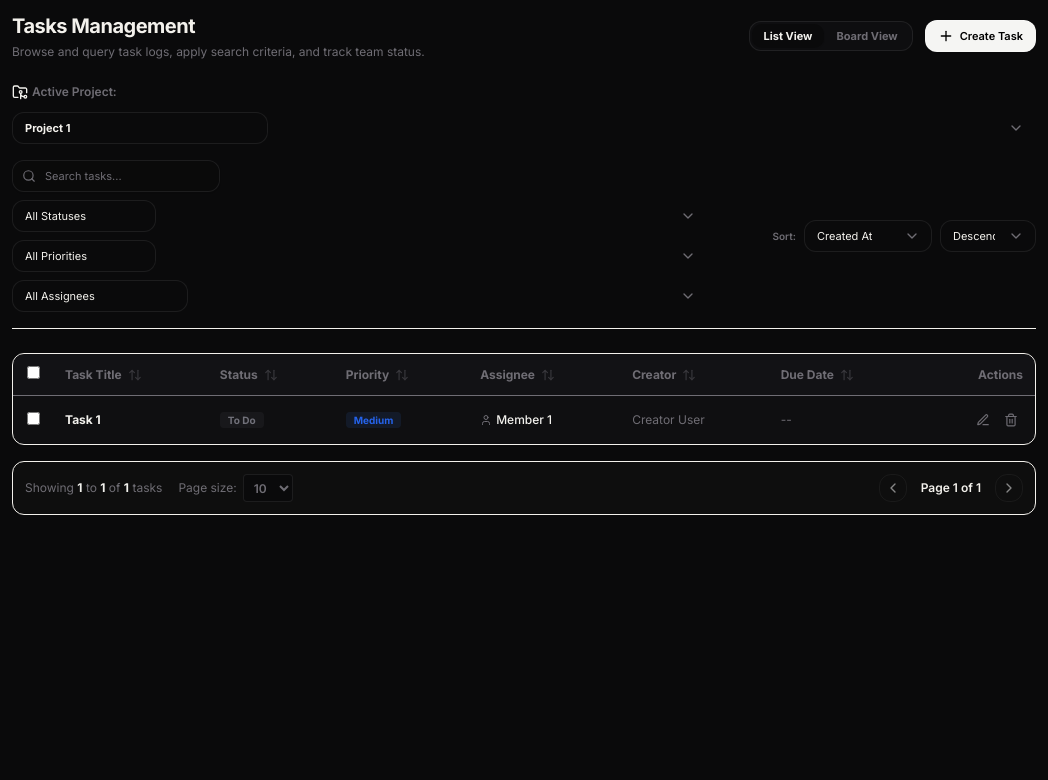
Test: TasksListPage › should select tasks and render bulk actions toolbar
Expected: the text "Task 1" is shown, [53,396,208,444]
Click the checkbox named "Select task Task 1" at [33, 418], box [26,412,40,424]
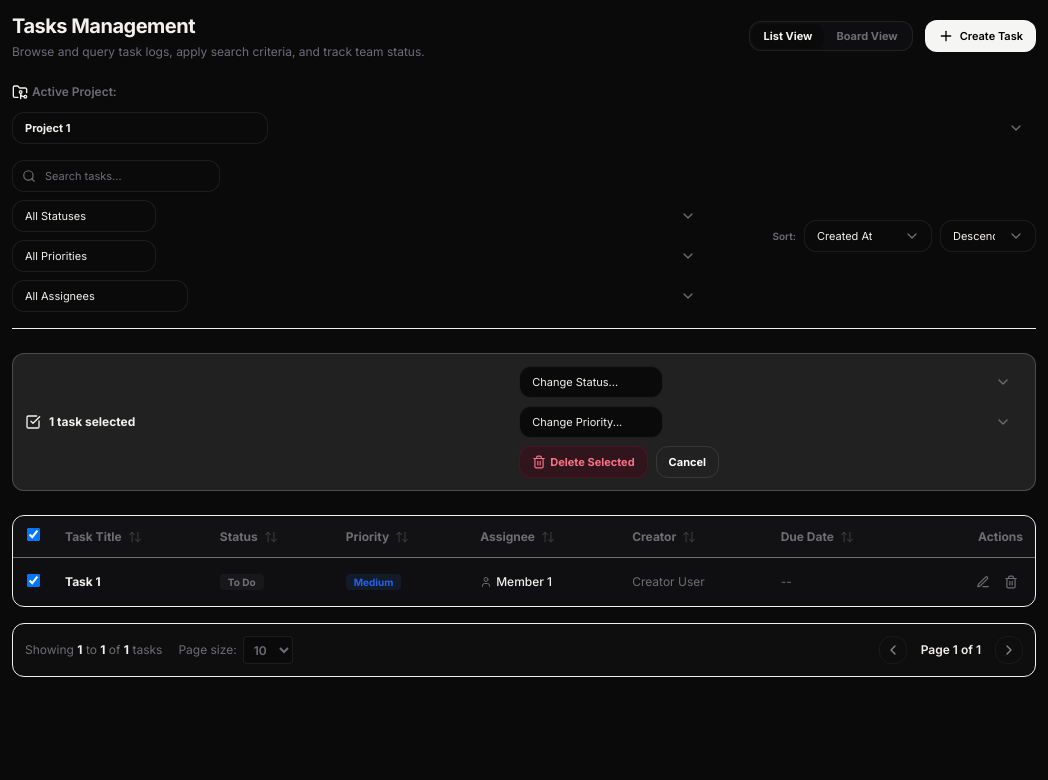
Now the text "1 task selected" is shown, box [49,414,135,430]
Now the button "Delete Selected" is shown, box [519,446,648,478]
